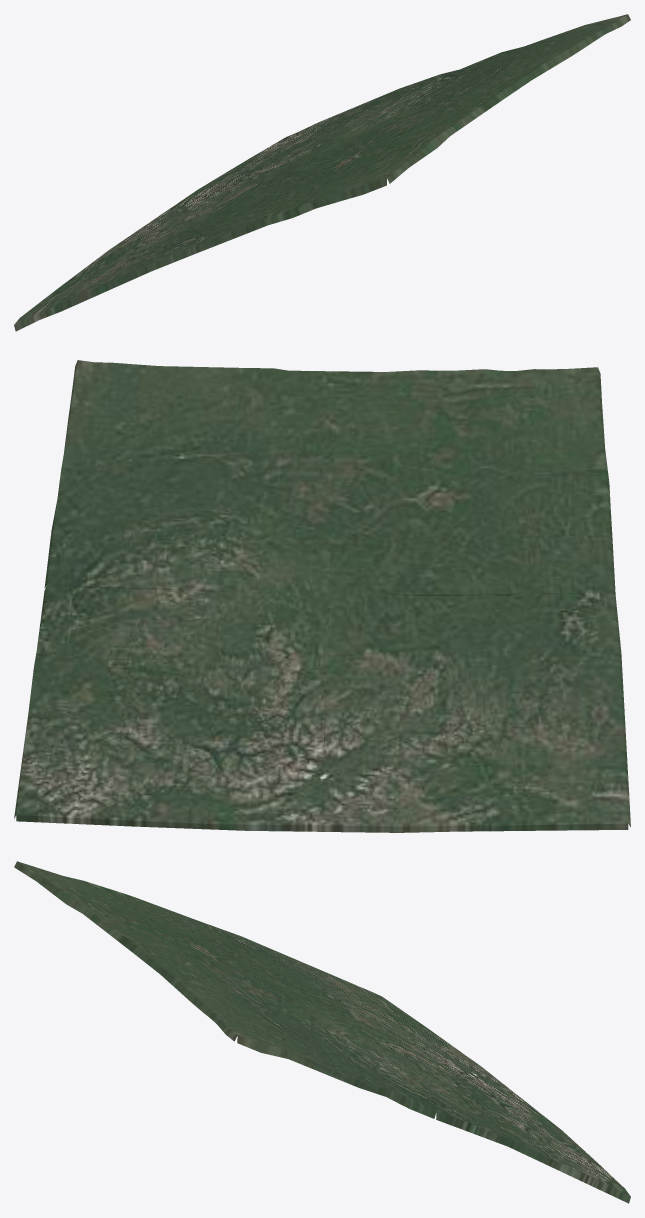
3 renders of one model, top to bottom at view 1: azimuth 30°, elevation 25°; view 2: azimuth 150°, elevation 25°; view 3: azimuth 270°, elevation 25°, orthographic. The views are drawn at different scales.
Size of the model in its own units: 826634 by 331727 by 782379.
1 material, 1 textured.
